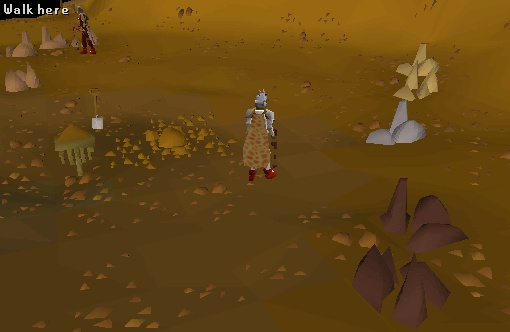copper: (1, 59, 53, 102), (1, 22, 53, 65)
iron: (372, 169, 478, 265)
tin: (359, 95, 439, 156)
